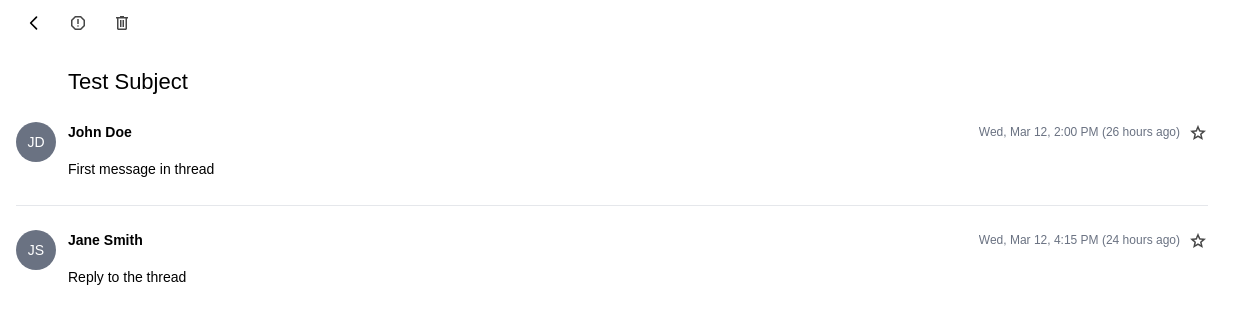
Test: EmailDetail › Toggle Functionality › toggles thread message details independently
Click first message header
Click the text "John Doe". click: (100, 132)
box: [60, 114, 1216, 150]
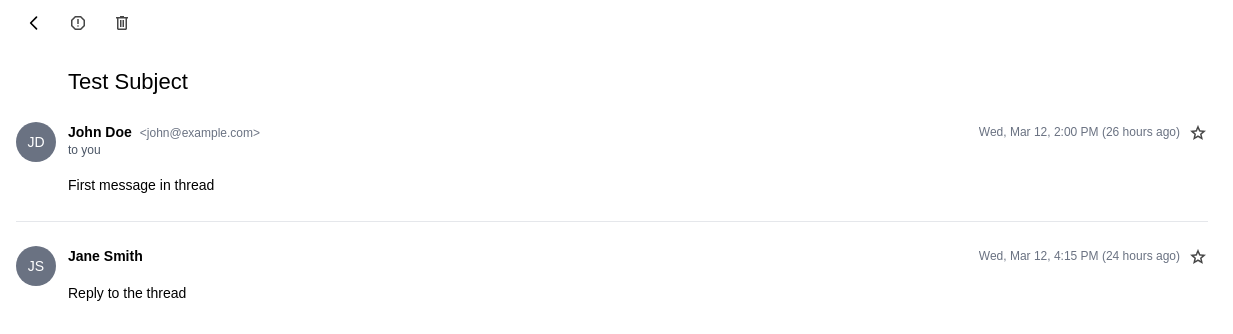
Expected: the text "<jane@example.com>" is not shown
Now the text "<john@example.com>" is shown, box [140, 125, 260, 141]
Click second message header
Click the text "Jane Smith". click: (105, 256)
box: [60, 238, 1216, 274]
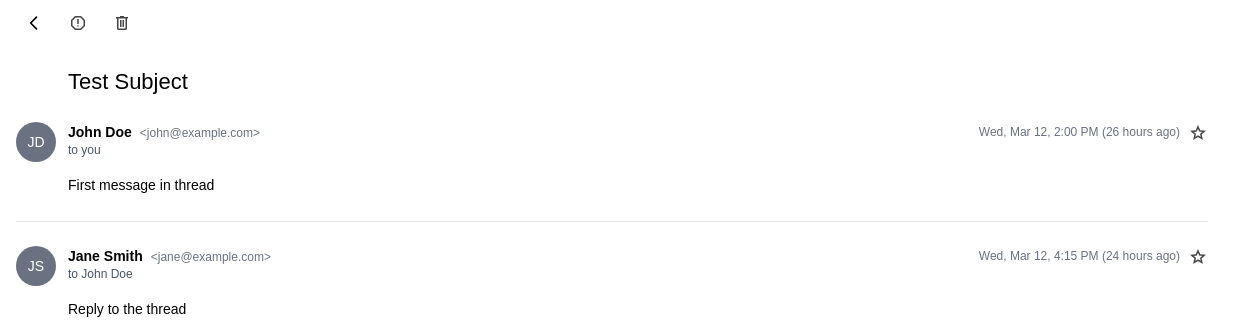
Now the text "<john@example.com>" is shown, box [140, 125, 260, 141]
Now the text "<jane@example.com>" is shown, box [151, 249, 271, 265]
